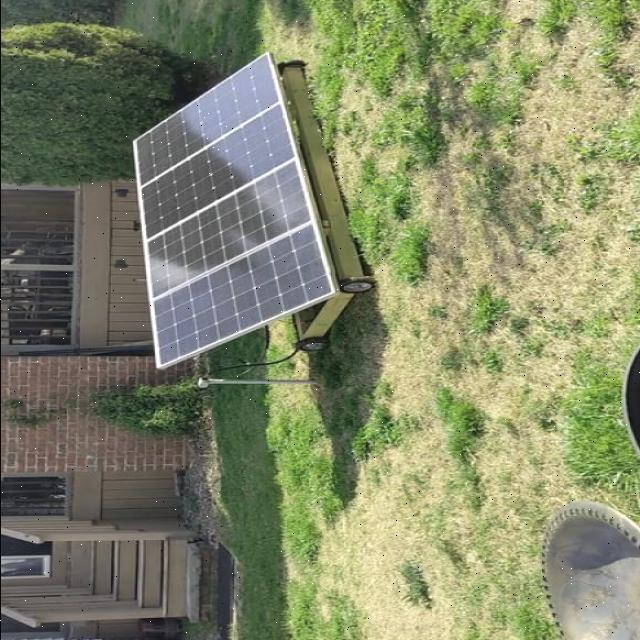Normal Solar Panel: (134, 51, 334, 370)
